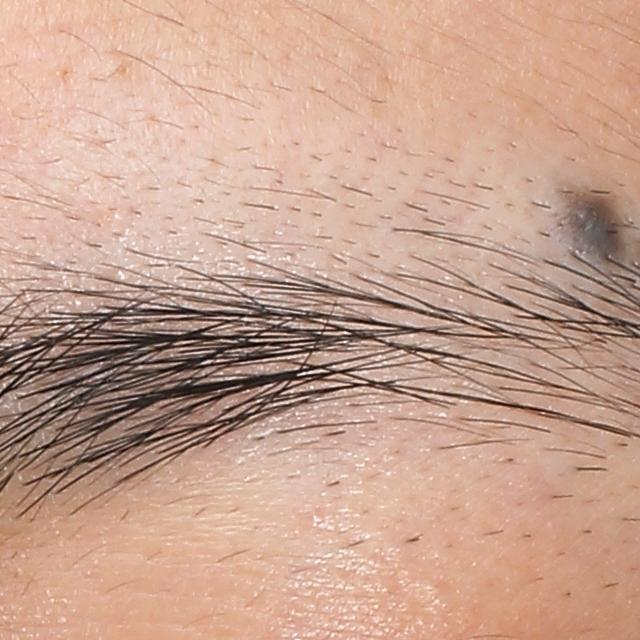nevus: (566, 184, 624, 268)
